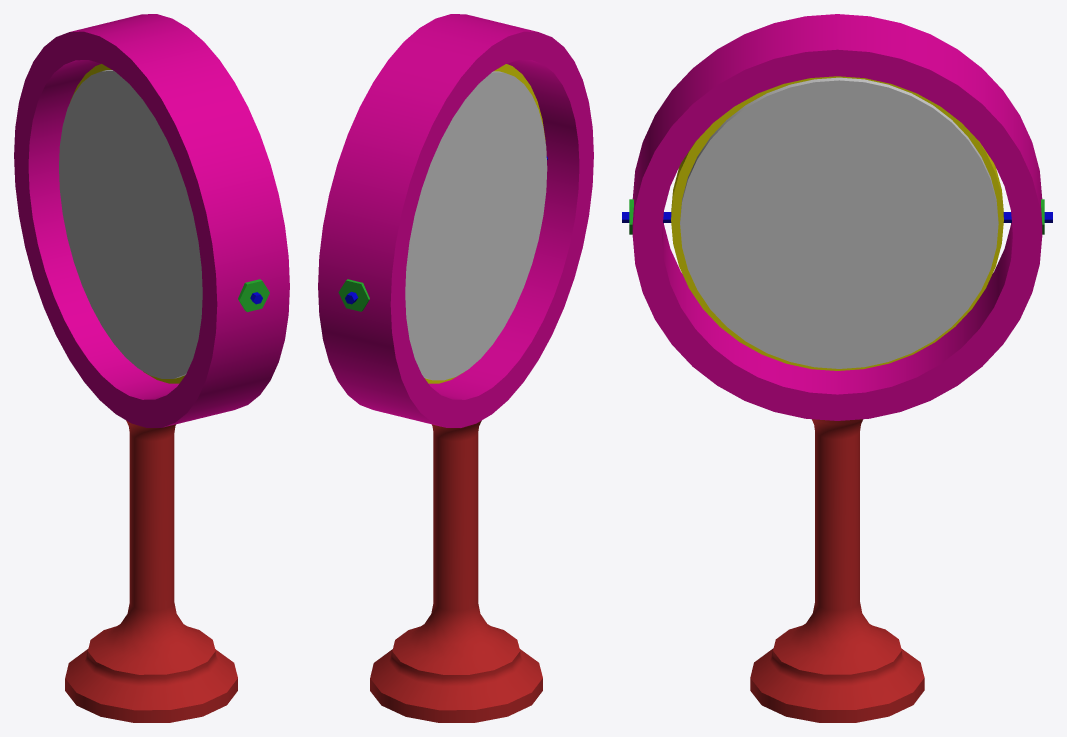
The model's file is SM_Miroir.fbx.
3 renders of one model, left to right at view 1: azimuth 30°, elevation 25°; view 2: azimuth 150°, elevation 25°; view 3: azimuth 270°, elevation 25°, orthographic.
Parts seen in each view (by area): view 1: pCylinder4; view 2: pCylinder4; view 3: pCylinder4.
Part boxes in pixels (<box>): pCylinder4: <box>14,14,289,722</box>; pCylinder4: <box>318,14,593,722</box>; pCylinder4: <box>622,14,1052,722</box>.
Size of the model in its own units: 41.61 by 174 by 103.
